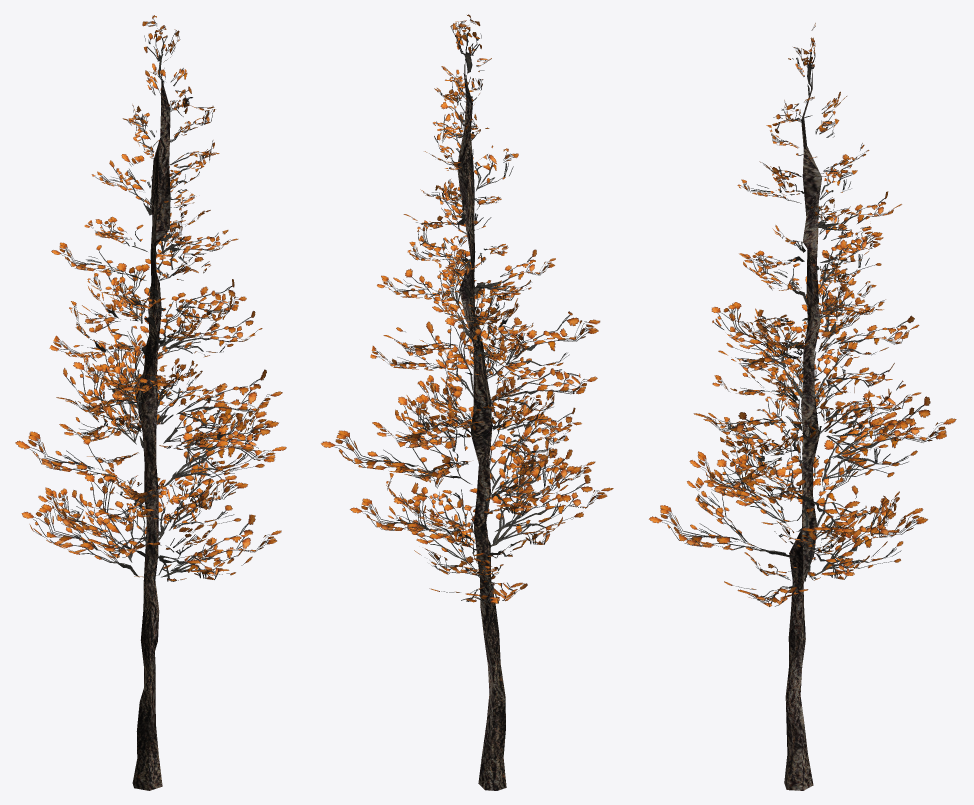
The model's file is tree02-low.glb.
3 views of the same model, side by side, from view 1: azimuth 30°, elevation 25°; view 2: azimuth 150°, elevation 25°; view 3: azimuth 270°, elevation 25° (orthographic).
Visible parts, largest first — view 1: Object_2; view 2: Object_2; view 3: Object_2.
Boxes of the visible parts, x1=… form: Object_2: x1=15, y1=15, x2=286, y2=790; Object_2: x1=321, y1=14, x2=613, y2=790; Object_2: x1=649, y1=23, x2=956, y2=790.
Bounding box in the file's own units: 22780 × 65494 × 24019.
Materials: 1 (1 with a texture image).
